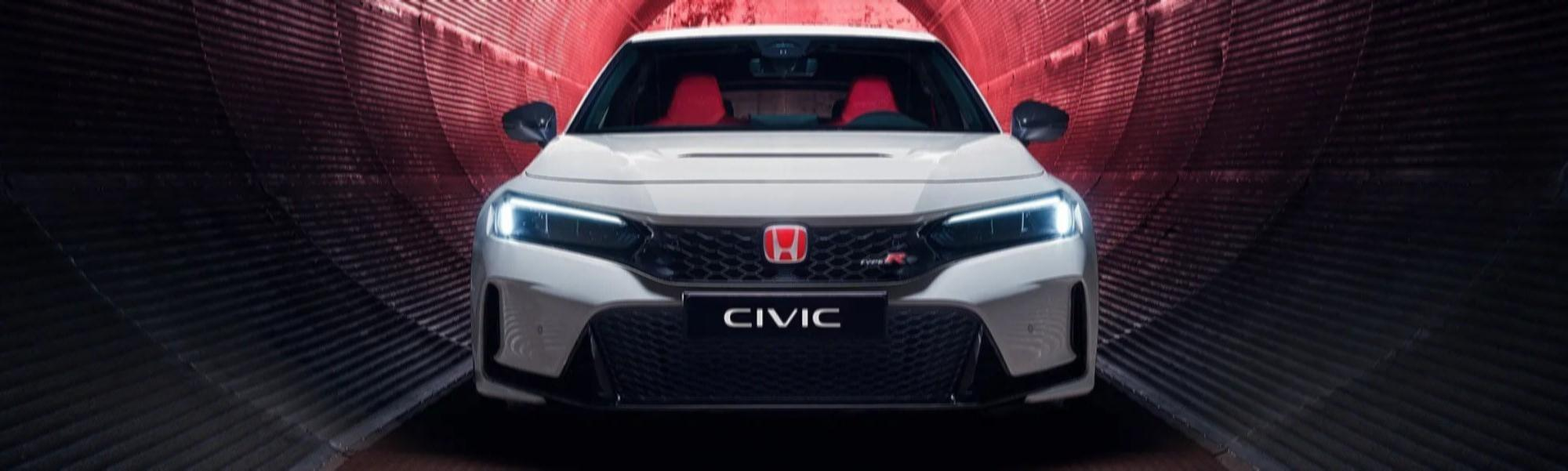Car hood: (502, 128, 1068, 232)
Front bumper: (464, 237, 1102, 423)
Headlight - -L-: (917, 186, 1086, 271)
Headlight - -R-: (482, 180, 658, 269)
Side mirror - -R-: (496, 90, 564, 154), (1004, 93, 1076, 153)
